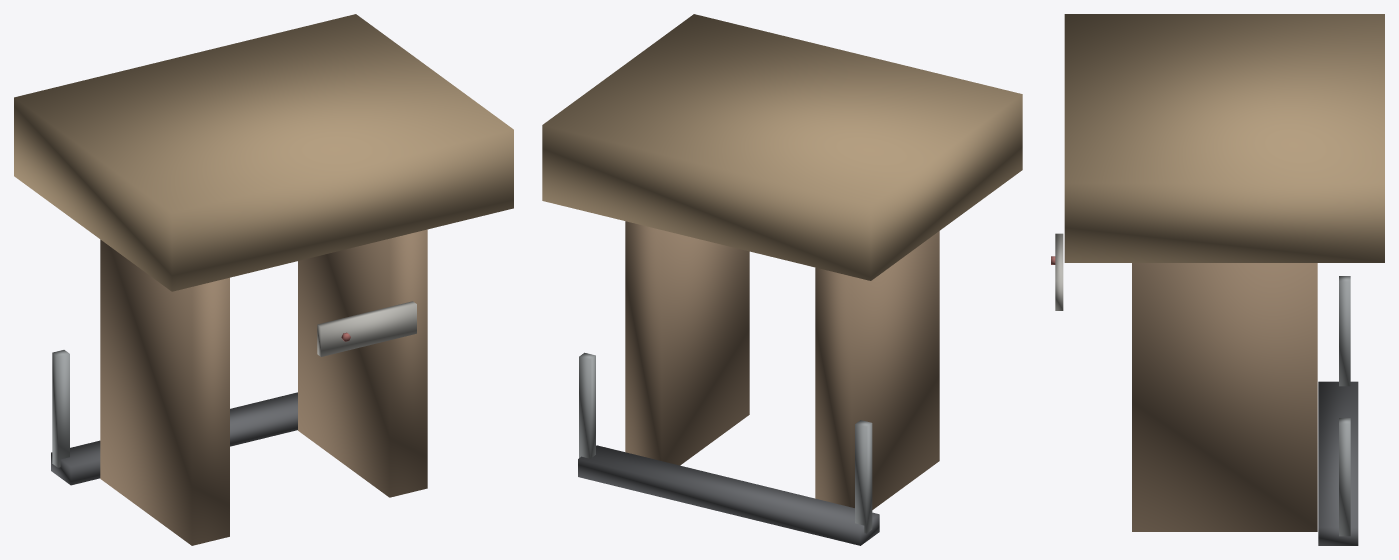
The model's file is butcher_block__reinforced.glb.
3 renders of one model, left to right at view 1: azimuth 30°, elevation 25°; view 2: azimuth 150°, elevation 25°; view 3: azimuth 270°, elevation 25°, orthographic. The views are drawn at different scales.
Visible parts, largest first — view 1: world; view 2: world; view 3: world.
Part boxes in pixels (x1,y1,x2,y2): world: (14, 14, 513, 545); world: (542, 14, 1022, 545); world: (1051, 14, 1384, 545).
Bounding box in the file's own units: 0.927 × 0.9588 × 0.7735.
